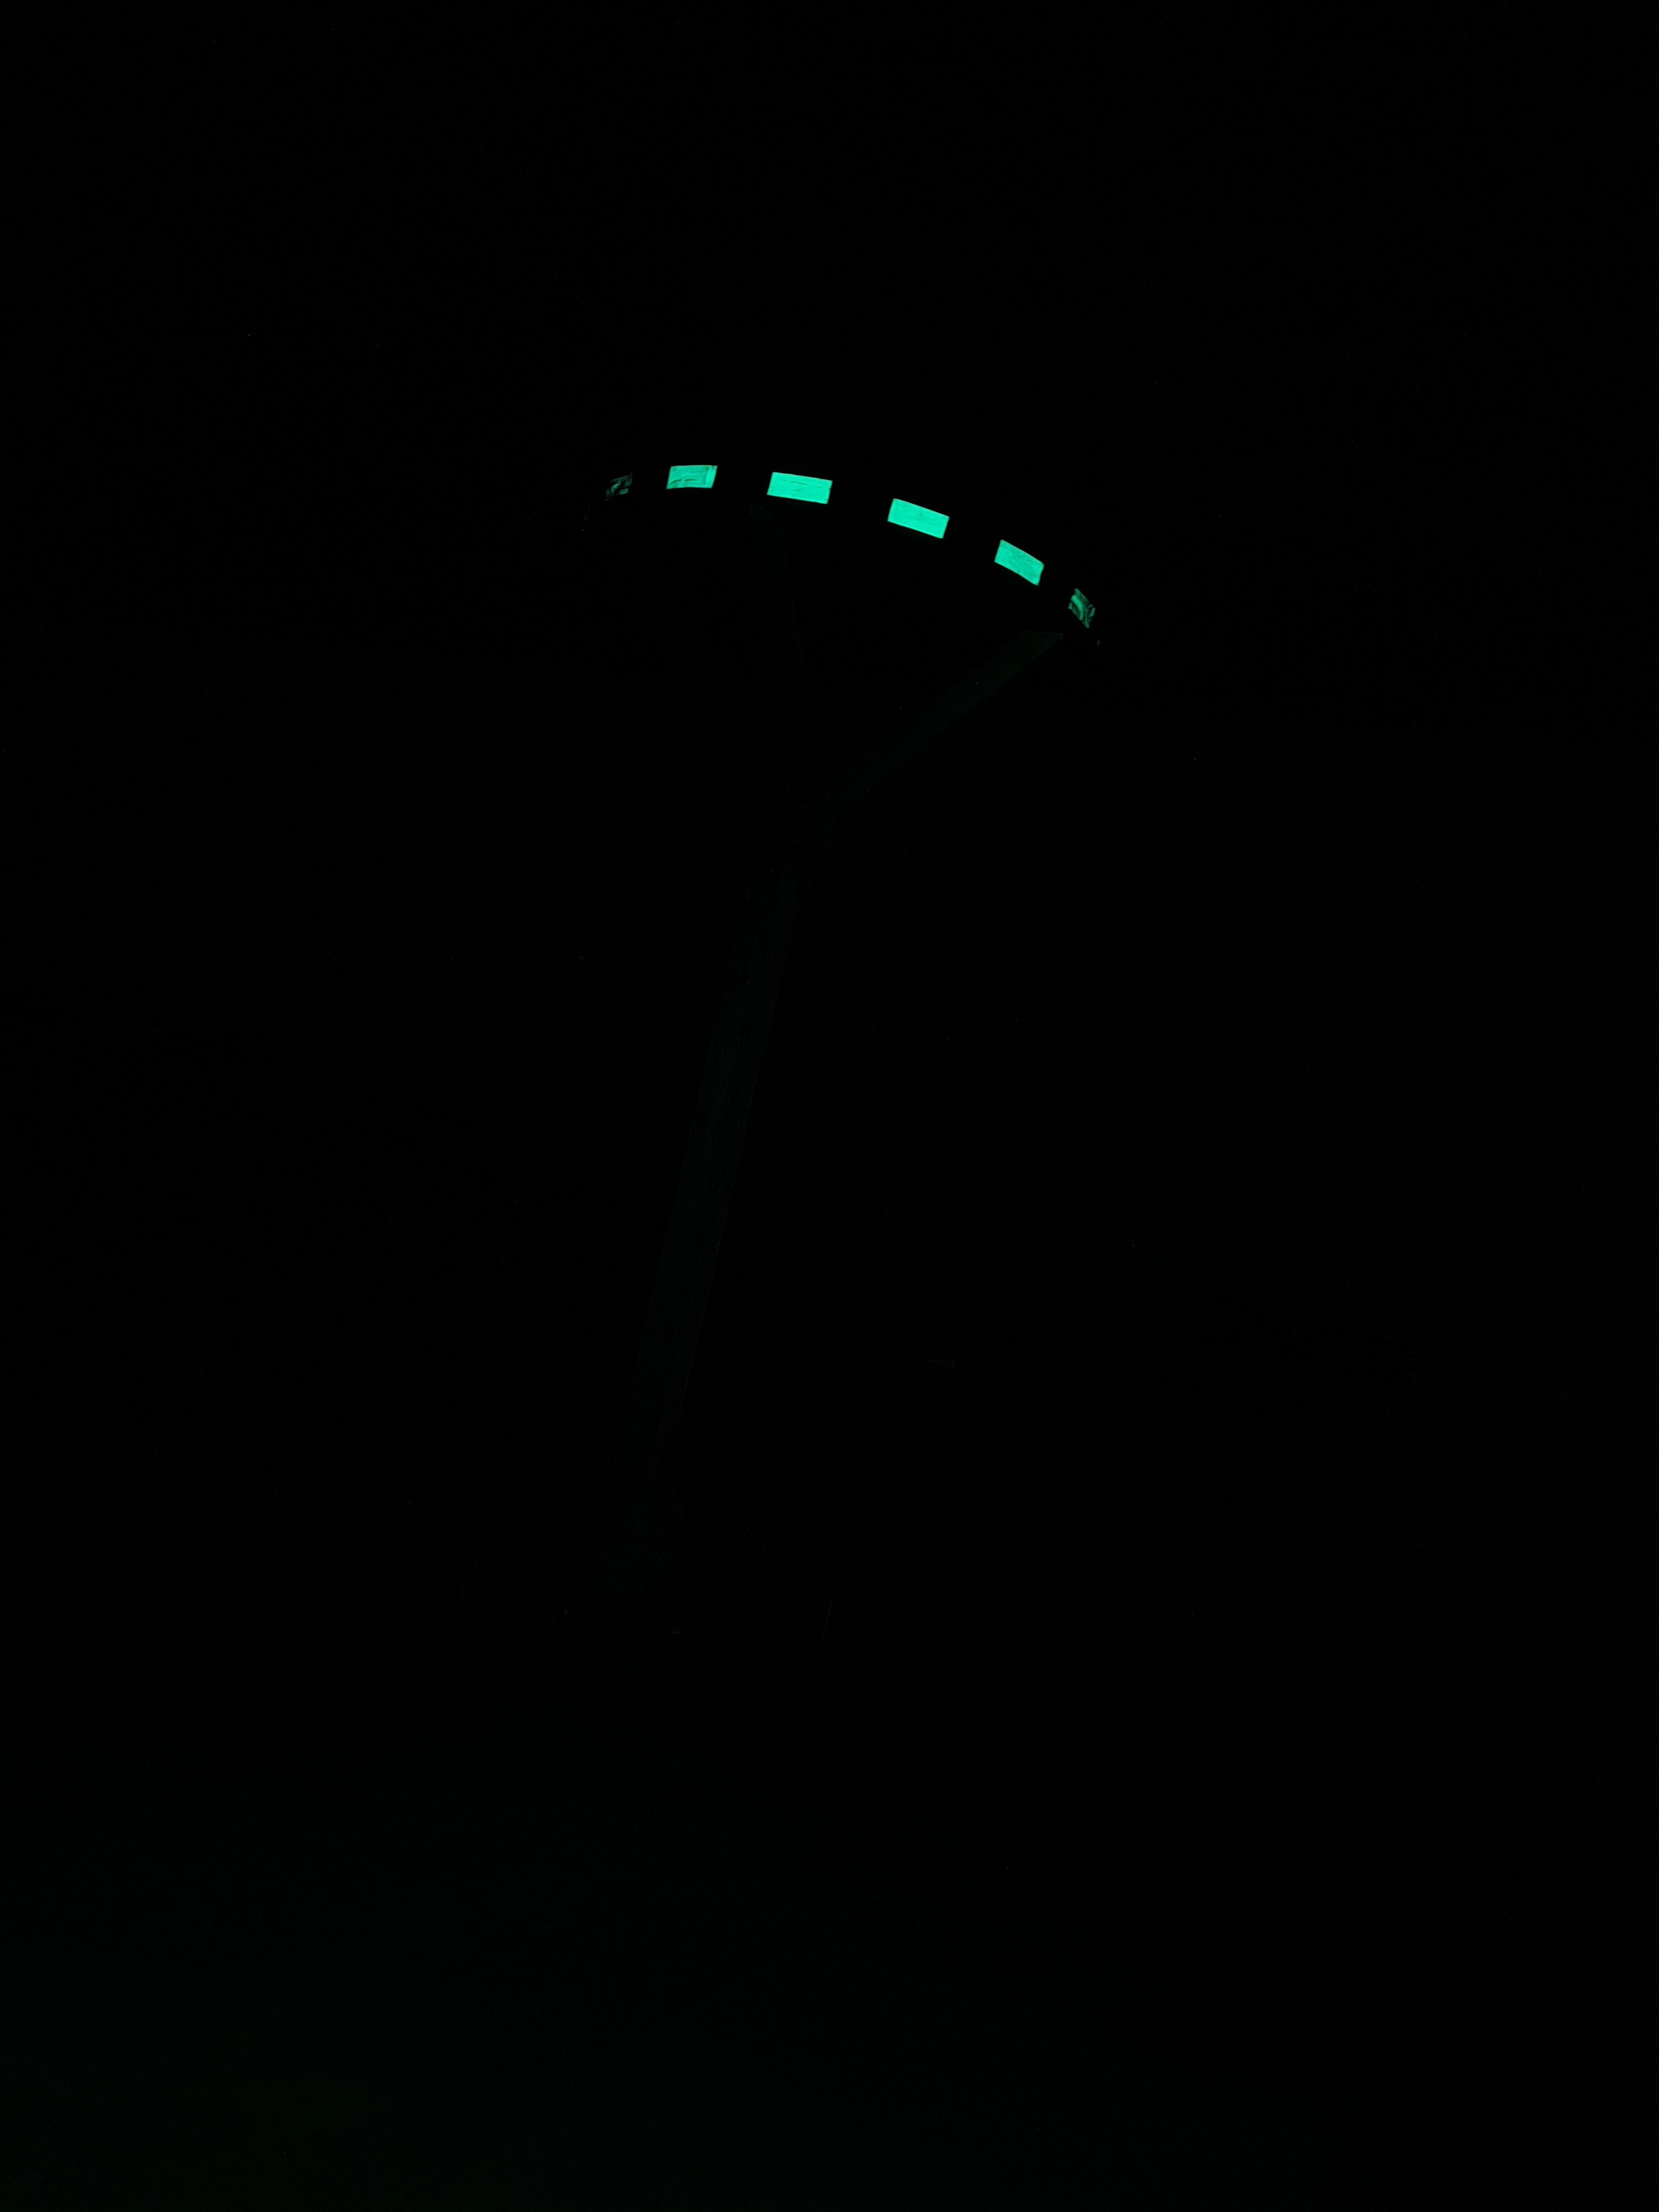hoop: (587, 439, 1107, 643)
